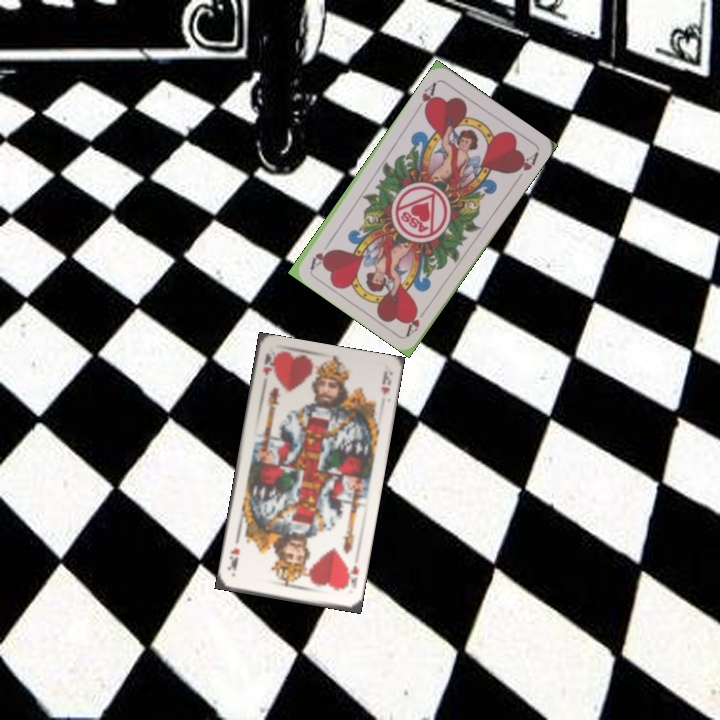HA: (402, 302, 431, 338), (412, 78, 439, 116)
HK: (340, 561, 361, 592), (259, 349, 278, 378)
